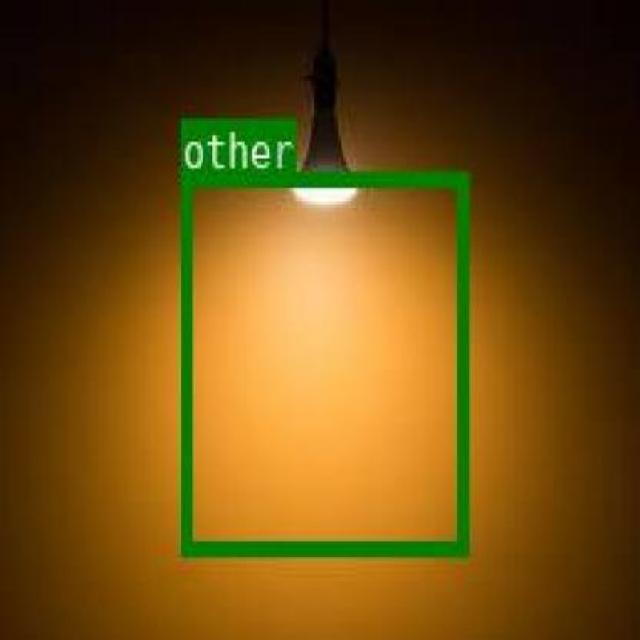other: (178, 168, 466, 554)
